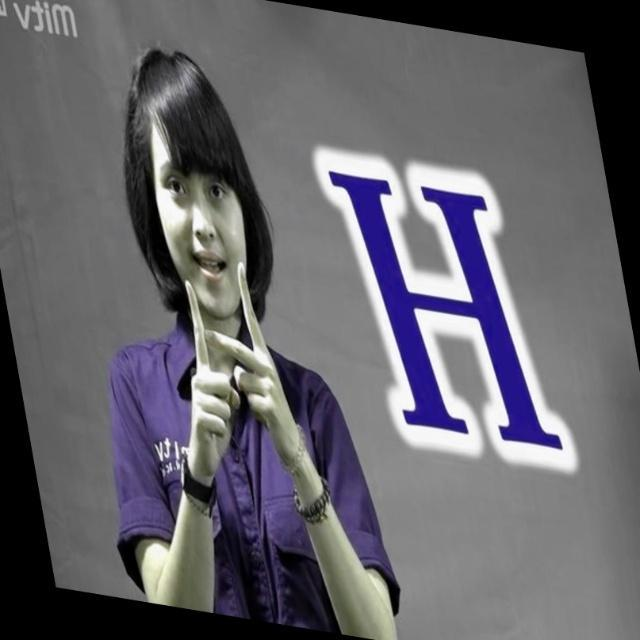H: (176, 259, 285, 431)
